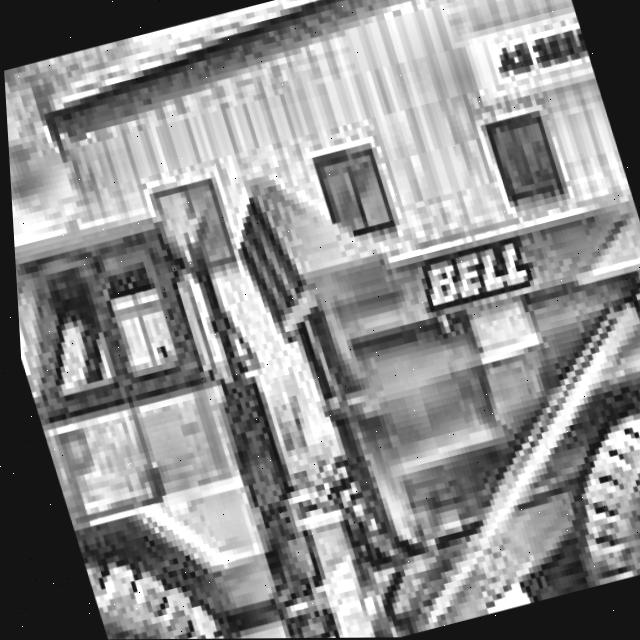dump_truck: (2, 44, 640, 640)
